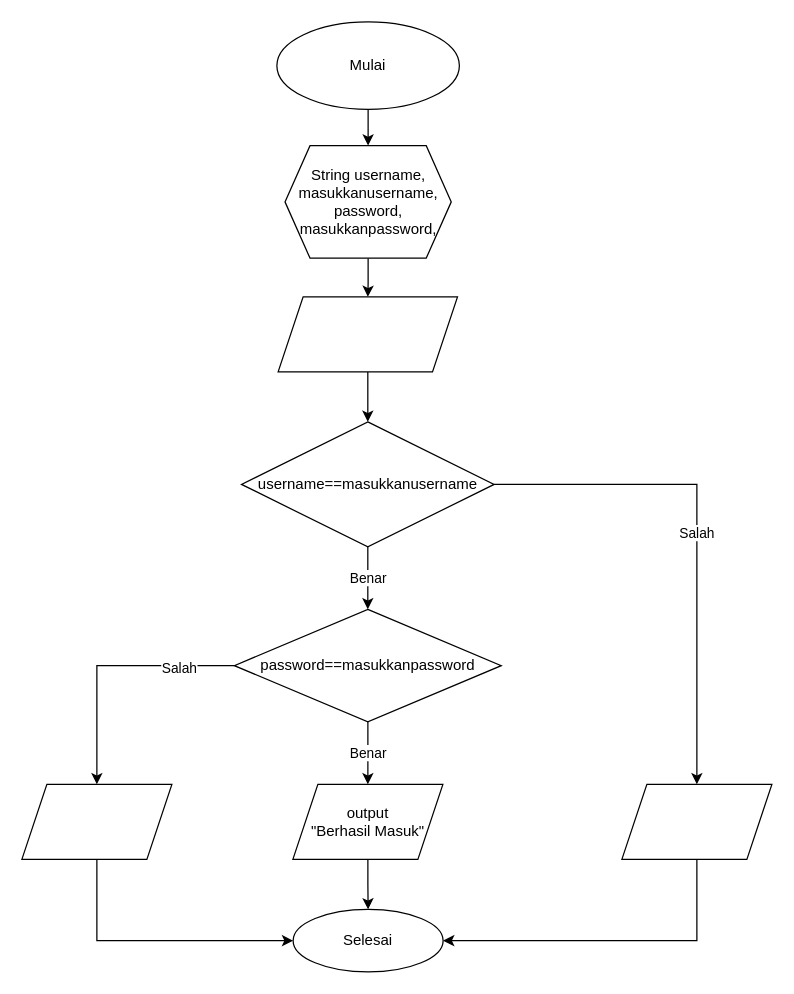
The diagram is 794 pixels wide and 994 high, and some of its shapes have lost their labels. The shapes that lost their labels are listed below. From the top down, each one's centre as x and y in pixels, then its label:
pixel 367 334: masukkanusername masukkanpassword
pixel 96 821: output "Passwordsalah"
pixel 696 821: output "usernamesalah"
